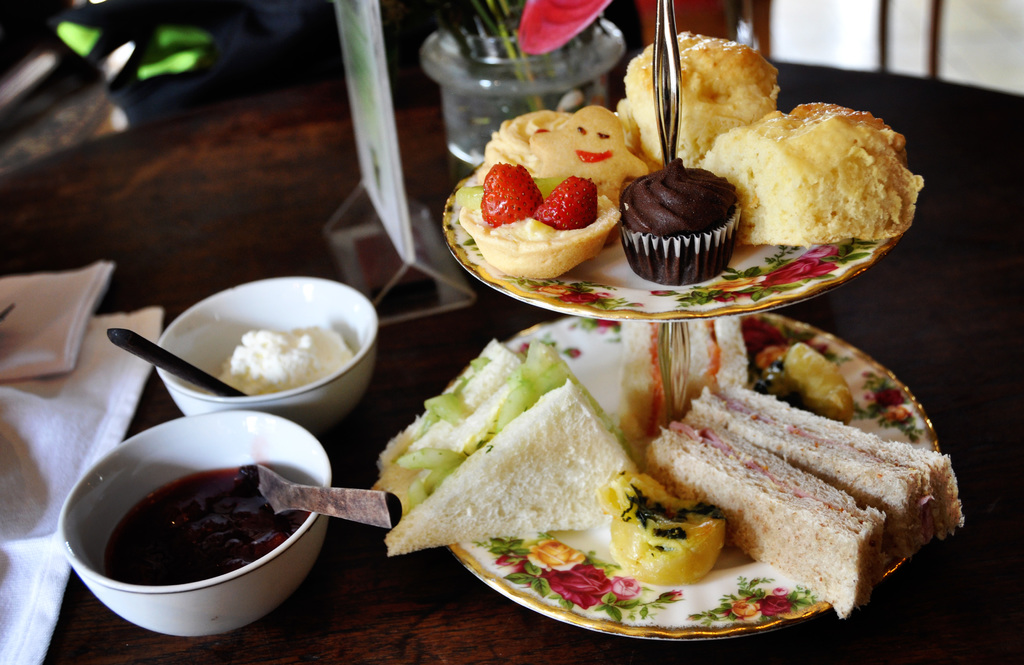sandwich: (639, 373, 967, 621), (369, 337, 641, 556), (617, 313, 755, 442)
